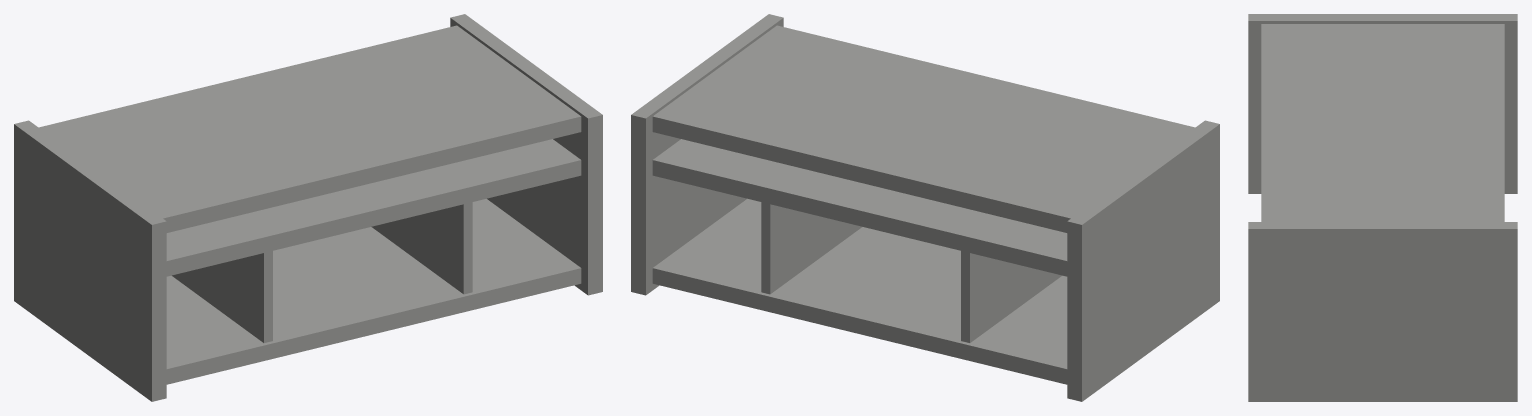
File: Shelf_Small2.glb
3 views of the same model, side by side, from view 1: azimuth 30°, elevation 25°; view 2: azimuth 150°, elevation 25°; view 3: azimuth 270°, elevation 25° (orthographic). The views are drawn at different scales.
Visible parts, largest first — view 1: Shelf_Small2; view 2: Shelf_Small2; view 3: Shelf_Small2.
Boxes of the visible parts, x1=… form: Shelf_Small2: x1=14, y1=14, x2=602, y2=401; Shelf_Small2: x1=631, y1=14, x2=1219, y2=401; Shelf_Small2: x1=1248, y1=14, x2=1517, y2=401.
Size of the model in its own units: 0.5084 by 0.1906 by 0.2691.
1 material, 1 textured.
